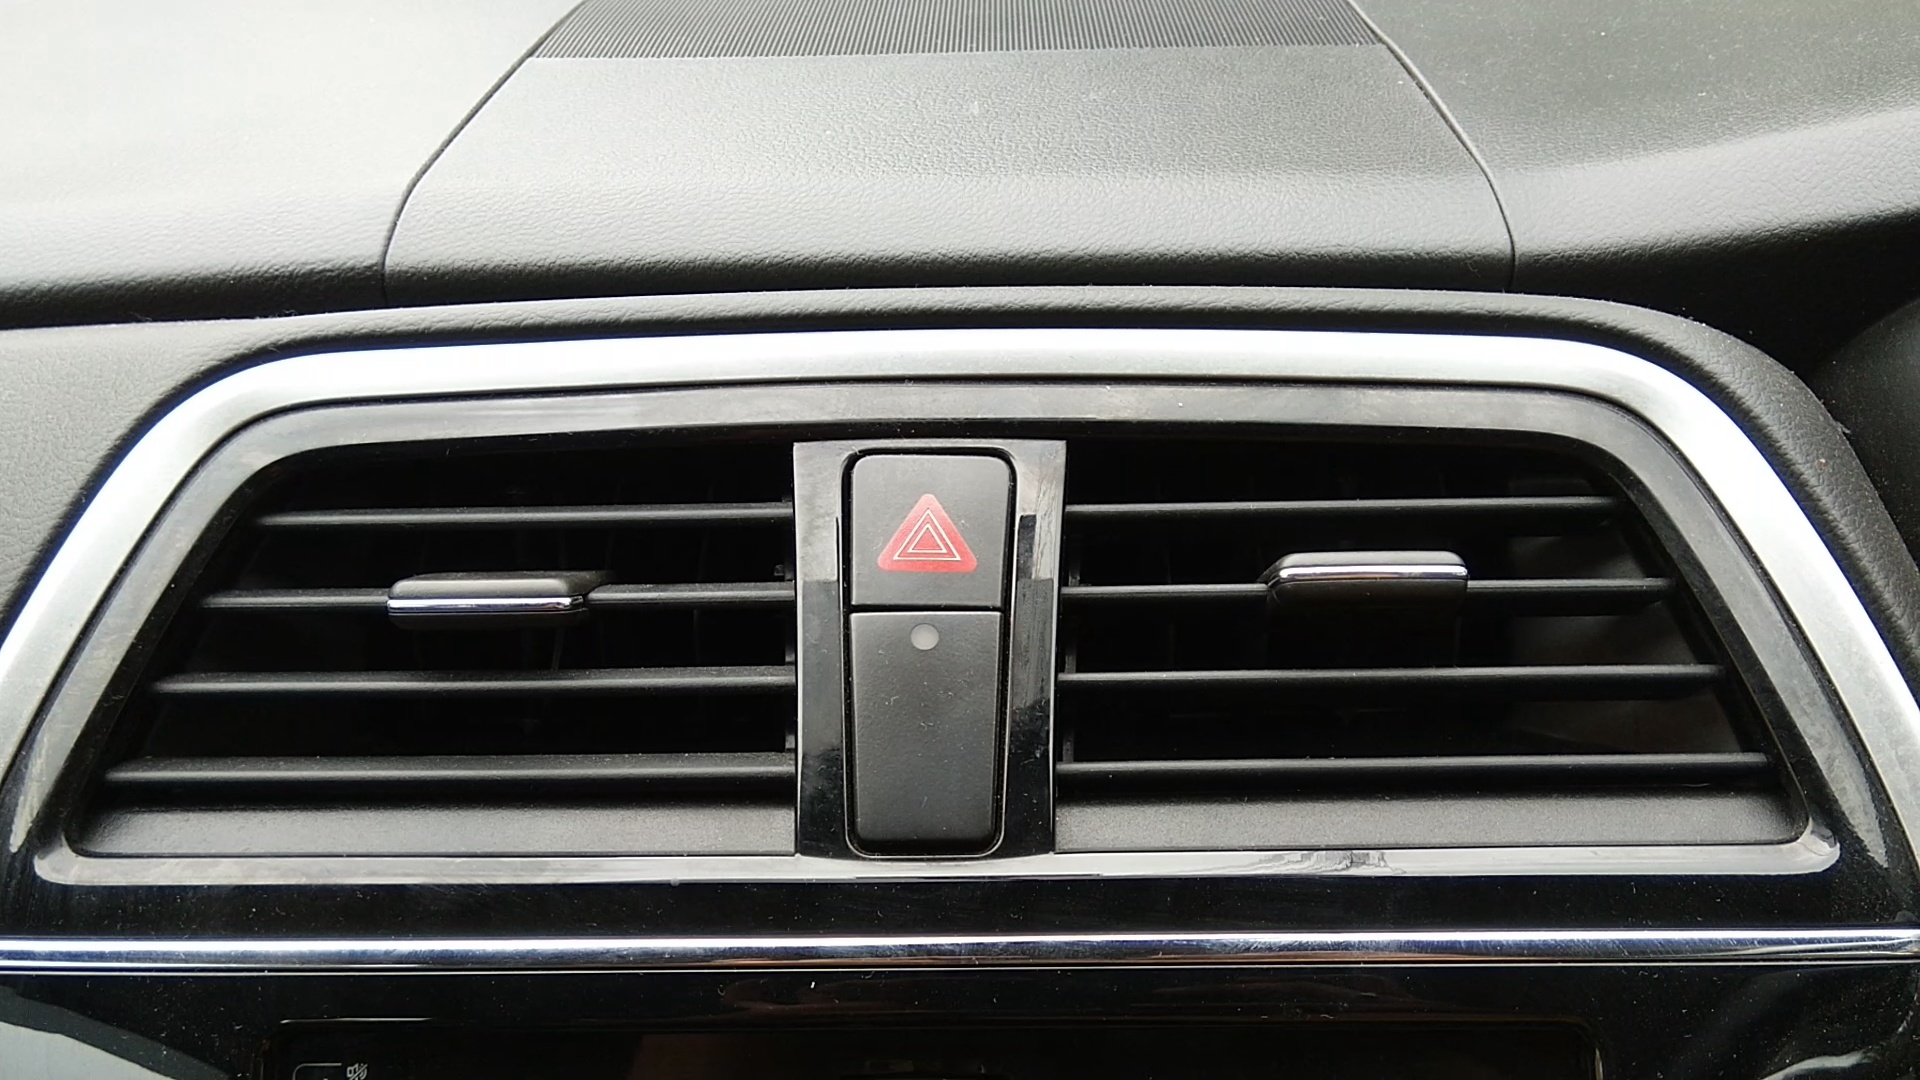parking_button: (825, 430, 1031, 622)
